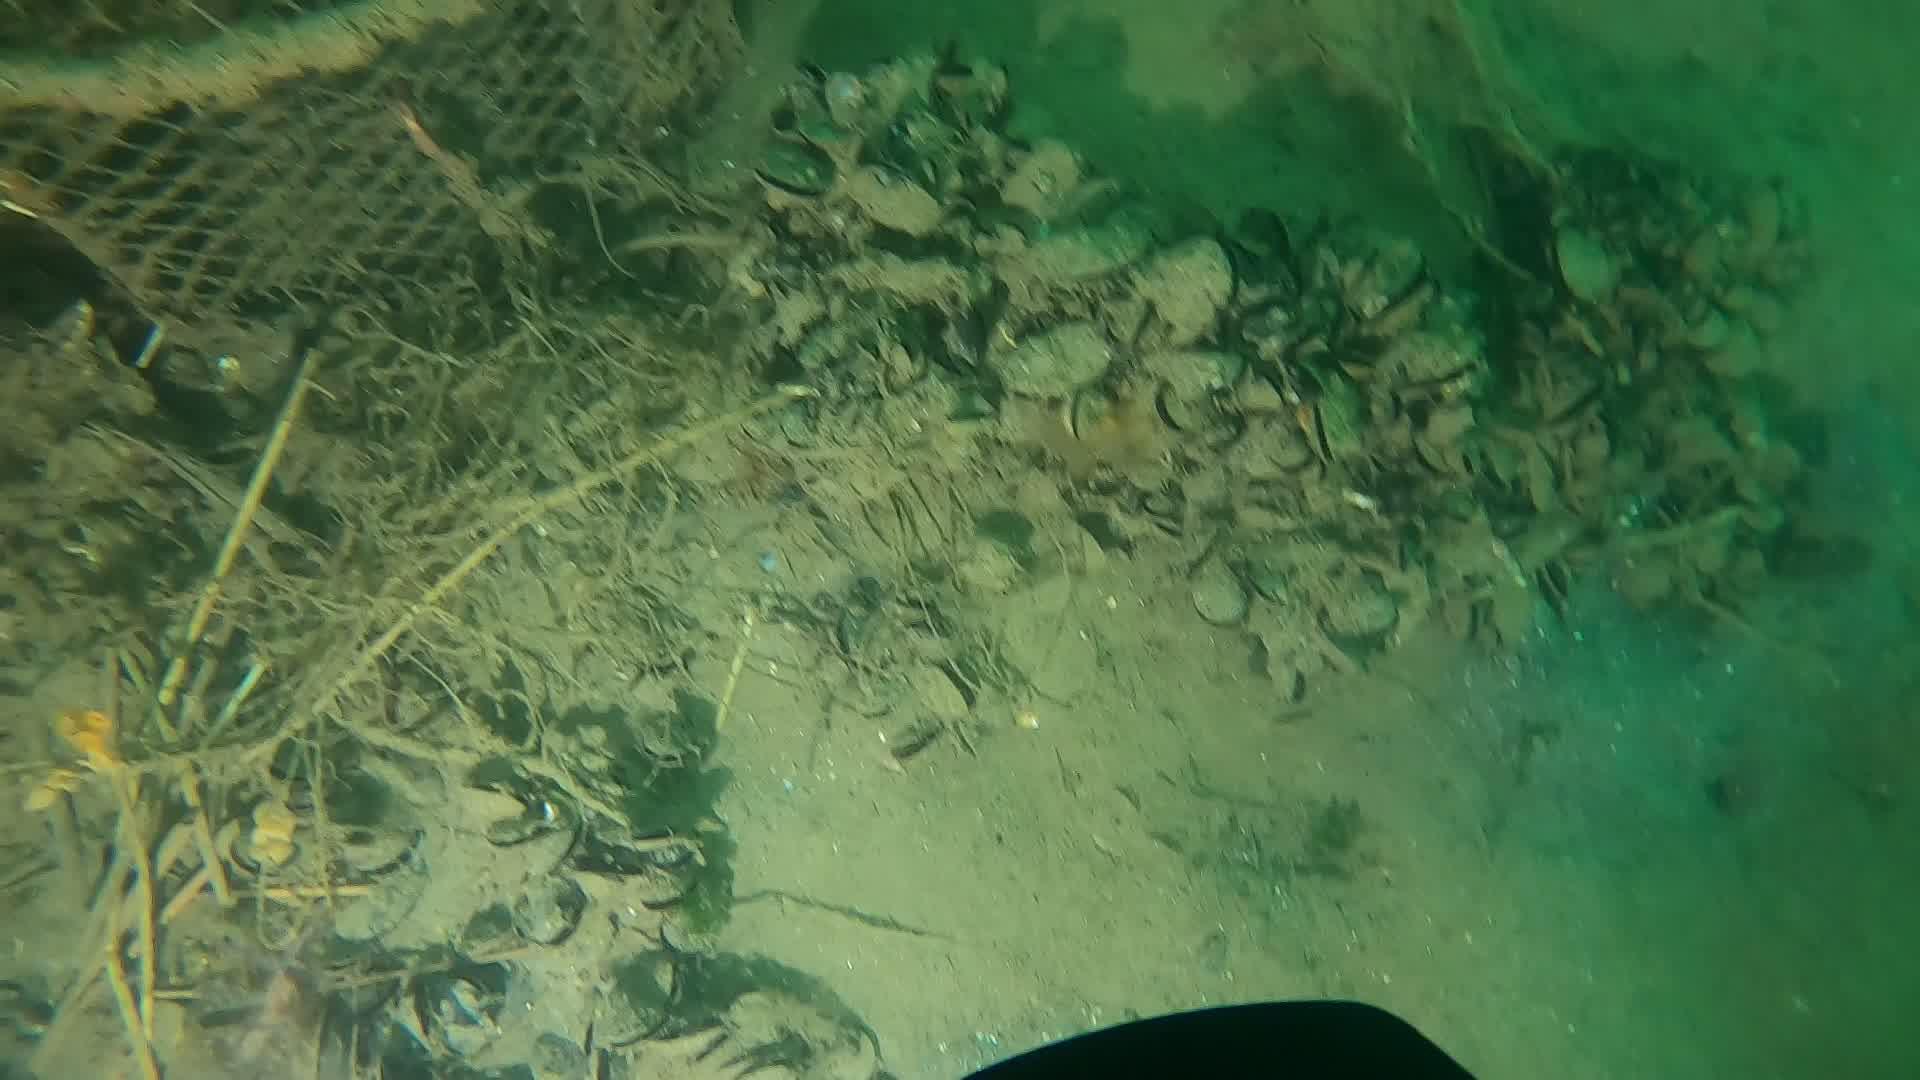fish net: (0, 0, 715, 335)
